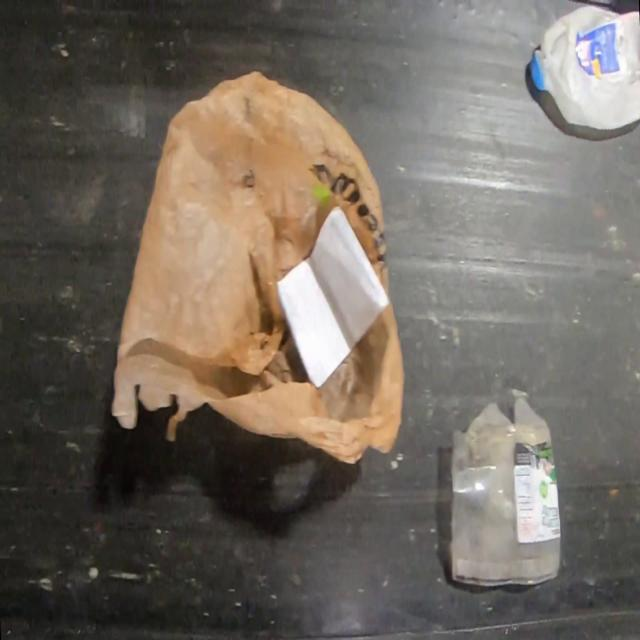rigid_plastic: (446, 396, 562, 588), (528, 4, 640, 129)
soft_plastic: (111, 70, 406, 462)
